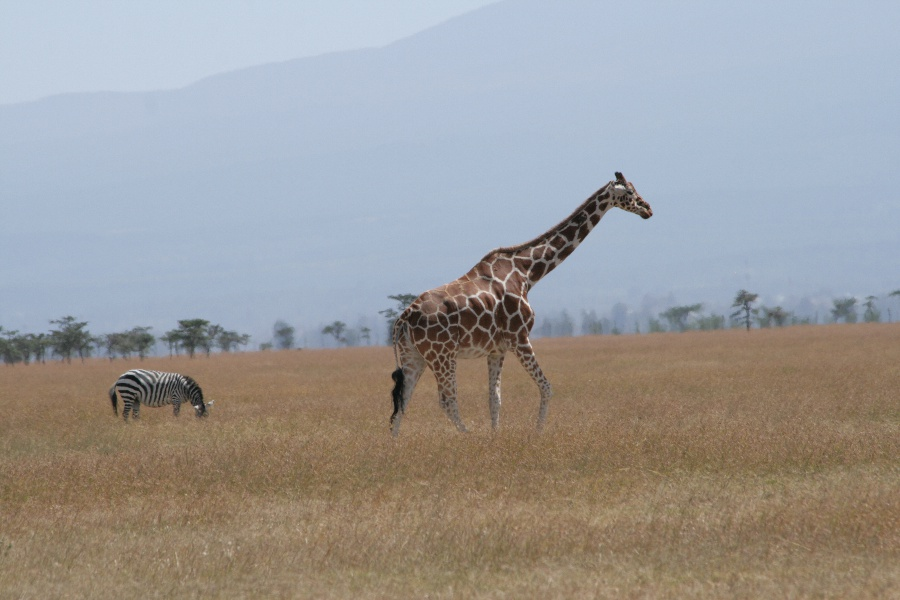giraffe: (375, 163, 656, 448)
